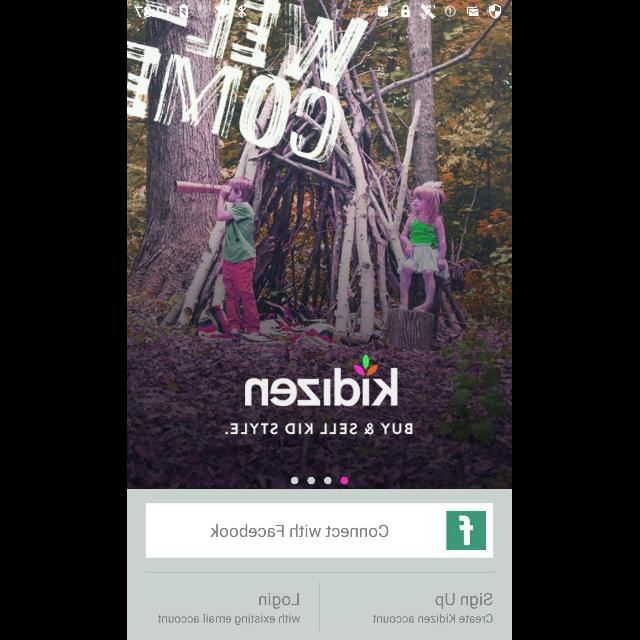image: (128, 23, 512, 489), (245, 354, 399, 406)
pageindicator: (291, 477, 349, 485)
text: (224, 422, 414, 436), (158, 613, 302, 625), (373, 614, 493, 624), (436, 592, 494, 610), (260, 593, 300, 609)
textbutton: (146, 504, 494, 558)
uppertaskbar: (128, 1, 512, 23)
